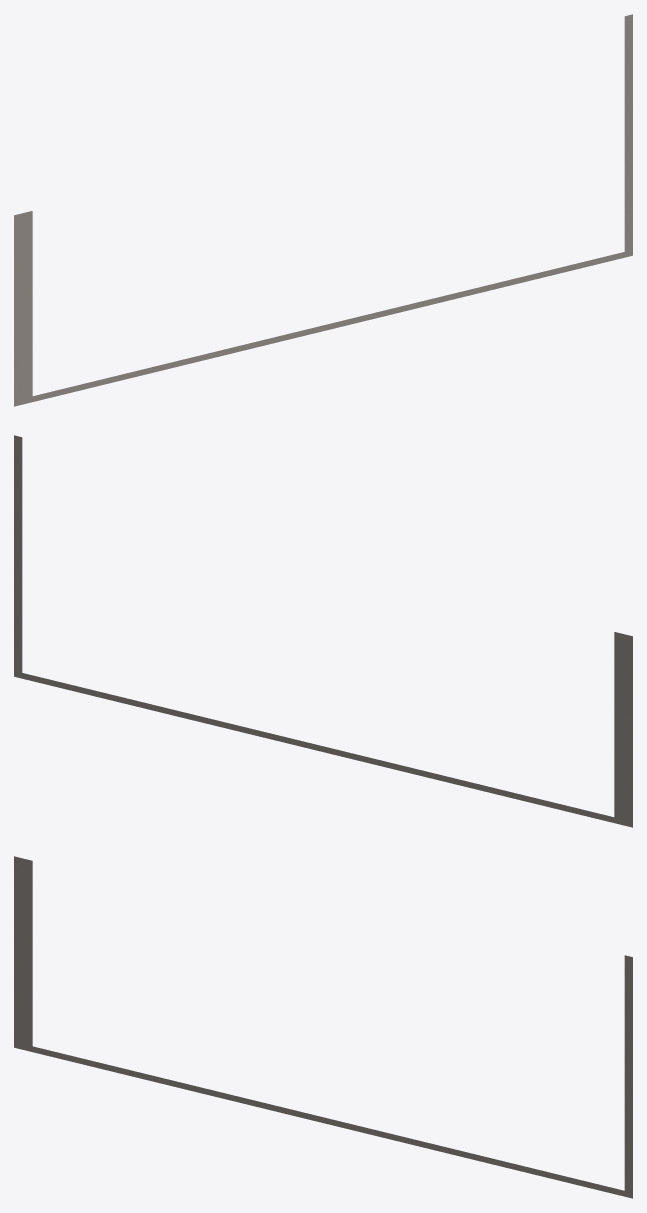
Rendered from kd_stage_135ded_4_82_exterior_piece_5.glb.
The picture shows the model from 3 angles, top to bottom: view 1: azimuth 30°, elevation 25°; view 2: azimuth 150°, elevation 25°; view 3: azimuth 330°, elevation 25°; orthographic projection.
Parts seen in each view (by area): view 1: kd_stage_135ded_4_82_exterior_piece_5; view 2: kd_stage_135ded_4_82_exterior_piece_5; view 3: kd_stage_135ded_4_82_exterior_piece_5.
Part boxes in pixels (<box>): kd_stage_135ded_4_82_exterior_piece_5: <box>14,14,632,406</box>; kd_stage_135ded_4_82_exterior_piece_5: <box>14,435,632,827</box>; kd_stage_135ded_4_82_exterior_piece_5: <box>14,856,632,1198</box>.
Bounding box in the file's own units: 2.2 × 0.82 × 0.
Materials: 1 (1 with a texture image).
